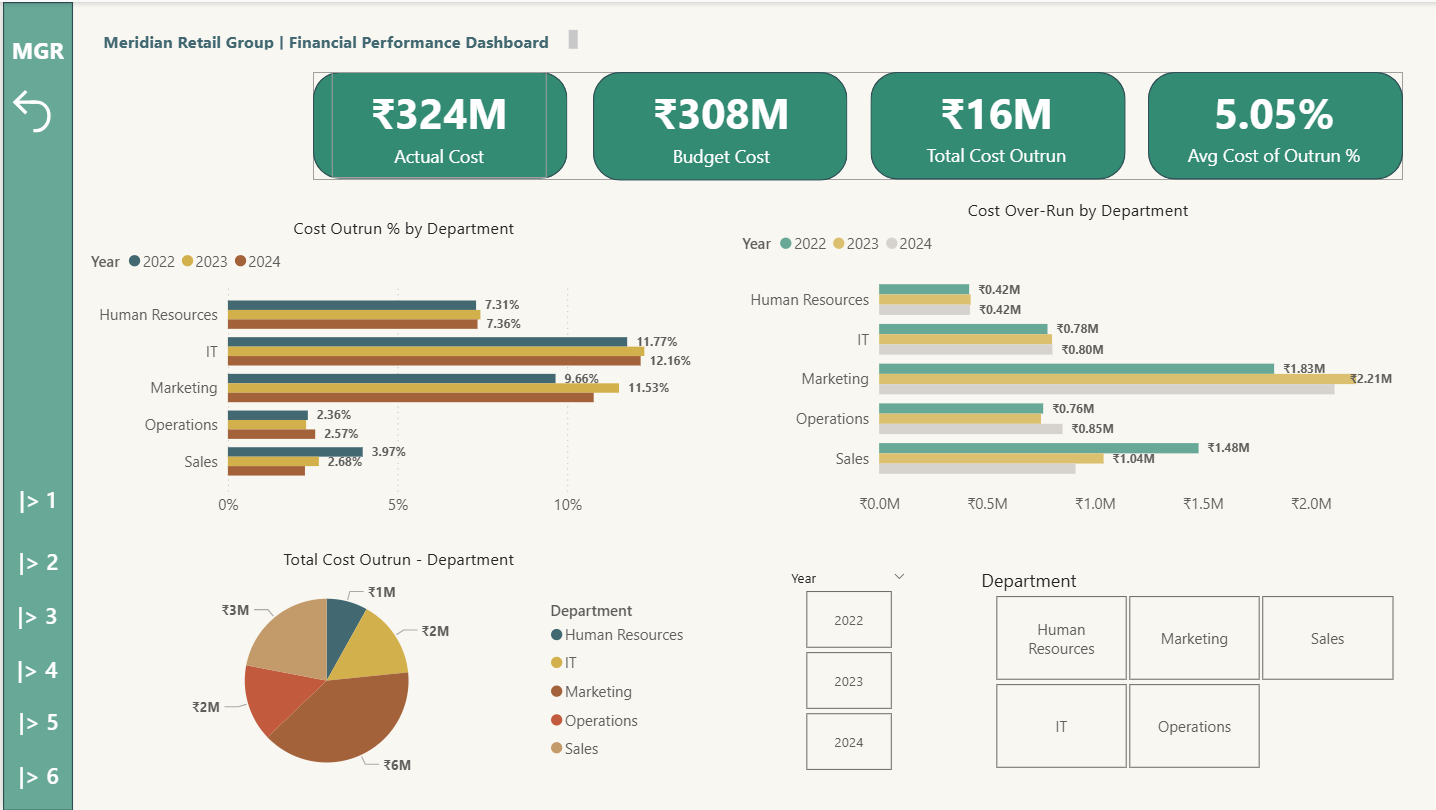

Layout of this report page (visuals, bound fields, positions):
{"tool":"powerbi","page":{"name":"Cost Intelligence","canvas":[1280,720],"ordinal":2},"visuals":[{"type":"shape","title":"Border Shape","box":[0,0,62.4,720.2],"z":0},{"type":"textbox","title":"Title","box":[84.8,20.8,431.9,27.7],"z":0,"group":"g2"},{"type":"shape","box":[276.5,62.7,226.7,95],"z":0,"group":"g3"},{"type":"actionButton","box":[0,418.9,61.6,47.7],"z":0,"group":"g1"},{"type":"slicer","title":"Slicer - Yr","fields":{"Values":["Cost Analysis.Year"]},"box":[688.9,498.9,126.7,191.1],"z":0,"group":"g4"},{"type":"actionButton","title":"Logo","box":[0,11.5,62.5,60.9],"z":1000,"group":"g2"},{"type":"shape","box":[525.4,62.7,226.7,96.7],"z":1000,"group":"g3"},{"type":"clusteredBarChart","title":"Cost Outrun % by Department","fields":{"Category":["Cost Analysis.Department"],"Series":["Cost Analysis.Year"],"Y":["Measure_Table.Cost of Outrun %"]},"box":[73.6,190.6,567,276.3],"z":1000},{"type":"actionButton","box":[1.5,474.3,61.6,47.7],"z":1000,"group":"g1"},{"type":"slicer","title":"Slicer - Dept.","fields":{"Values":["Cost Analysis.Department"]},"box":[857.7,498.2,403.7,190.4],"z":1000,"group":"g4"},{"type":"shape","box":[772.9,62.7,227.1,95.7],"z":2000,"group":"g3"},{"type":"clusteredBarChart","title":"Cost Over-Run by Department ","fields":{"Category":["cost_analysis.Dept_Name"],"Series":["cost_analysis.Year"],"Y":["Measure_Table.Total Cost Outrun"]},"box":[653.6,175,607.9,291.4],"z":2000},{"type":"actionButton","box":[0,522.1,61.6,47.7],"z":2000,"group":"g1"},{"type":"card","title":"Actual Cost","fields":{"Values":["Measure_Table.Actual Cost"]},"box":[293.2,62.7,191.7,95],"z":3000,"group":"g3"},{"type":"pieChart","title":"Total Cost Outrun - Department ","fields":{"Category":["Cost Analysis.Department"],"Y":["Measure_Table.Total Cost Outrun"]},"box":[84.5,485,535.7,218.4],"z":3000},{"type":"actionButton","box":[0,569.8,61.6,47.7],"z":3000,"group":"g1"},{"type":"card","title":"Budgeted Cost","fields":{"Values":["Measure_Table.Budget Cost"]},"box":[533.8,62.7,213.3,95],"z":4000,"group":"g3"},{"type":"actionButton","title":"Reset Button","box":[1.2,72.4,73.6,49.5],"z":4000},{"type":"actionButton","box":[1.5,665.3,61.6,47.7],"z":4000,"group":"g1"},{"type":"card","title":"Total Cost Outrun","fields":{"Values":["Measure_Table.Total Cost Outrun"]},"box":[790.1,62.7,191.4,94.3],"z":5000,"group":"g3"},{"type":"group","id":"g1","title":"Page Navigation","box":[0,418.9,63.1,294.1],"z":5000},{"type":"actionButton","box":[1.5,617.6,61.6,47.7],"z":5000,"group":"g1"},{"type":"group","id":"g2","title":"Logo & Title","box":[0,11.5,516.7,60.9],"z":6000},{"type":"shape","box":[1019.9,62.7,227.1,95.7],"z":6000,"group":"g3"},{"type":"group","id":"g3","title":"KPI Cards","box":[276.5,62.7,970.5,96.7],"z":7000},{"type":"card","title":"Variance","fields":{"Values":["Measure_Table.Avg Cost of Outrun %"]},"box":[1037,62.7,191.4,94.3],"z":7000,"group":"g3"},{"type":"group","id":"g4","title":"Slicers","box":[688.9,498.2,572.5,191.8],"z":8000}]}

Visuals, with their boxes on the page's 1280x720 design canvas (x1, y1, x2, y2). These are canvas units, not pixel positions in the 1436x810 screenshot, which may show the page scaled, cropped or inside an application window:
"Border Shape" shape: detection(0, 0, 62, 720)
"Title" textbox: detection(85, 21, 517, 48)
shape: detection(276, 63, 503, 158)
actionButton: detection(0, 419, 62, 467)
"Slicer - Yr" slicer: detection(689, 499, 816, 690)
"Logo" actionButton: detection(0, 12, 62, 72)
shape: detection(525, 63, 752, 159)
"Cost Outrun % by Department" clusteredBarChart: detection(74, 191, 641, 467)
actionButton: detection(2, 474, 63, 522)
"Slicer - Dept." slicer: detection(858, 498, 1261, 689)
shape: detection(773, 63, 1000, 158)
"Cost Over-Run by Department " clusteredBarChart: detection(654, 175, 1262, 466)
actionButton: detection(0, 522, 62, 570)
"Actual Cost" card: detection(293, 63, 485, 158)
"Total Cost Outrun - Department " pieChart: detection(84, 485, 620, 703)
actionButton: detection(0, 570, 62, 618)
"Budgeted Cost" card: detection(534, 63, 747, 158)
"Reset Button" actionButton: detection(1, 72, 75, 122)
actionButton: detection(2, 665, 63, 713)
"Total Cost Outrun" card: detection(790, 63, 982, 157)
"Page Navigation" group: detection(0, 419, 63, 713)
actionButton: detection(2, 618, 63, 665)
"Logo & Title" group: detection(0, 12, 517, 72)
shape: detection(1020, 63, 1247, 158)
"KPI Cards" group: detection(276, 63, 1247, 159)
"Variance" card: detection(1037, 63, 1228, 157)
"Slicers" group: detection(689, 498, 1261, 690)
